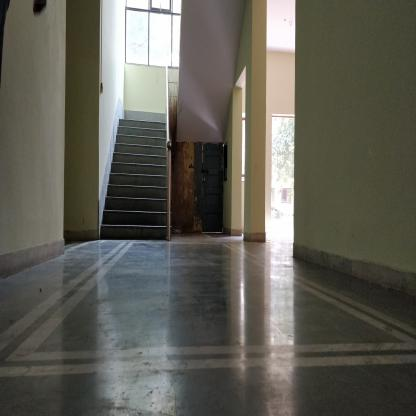stairs: (119, 117, 164, 244)
